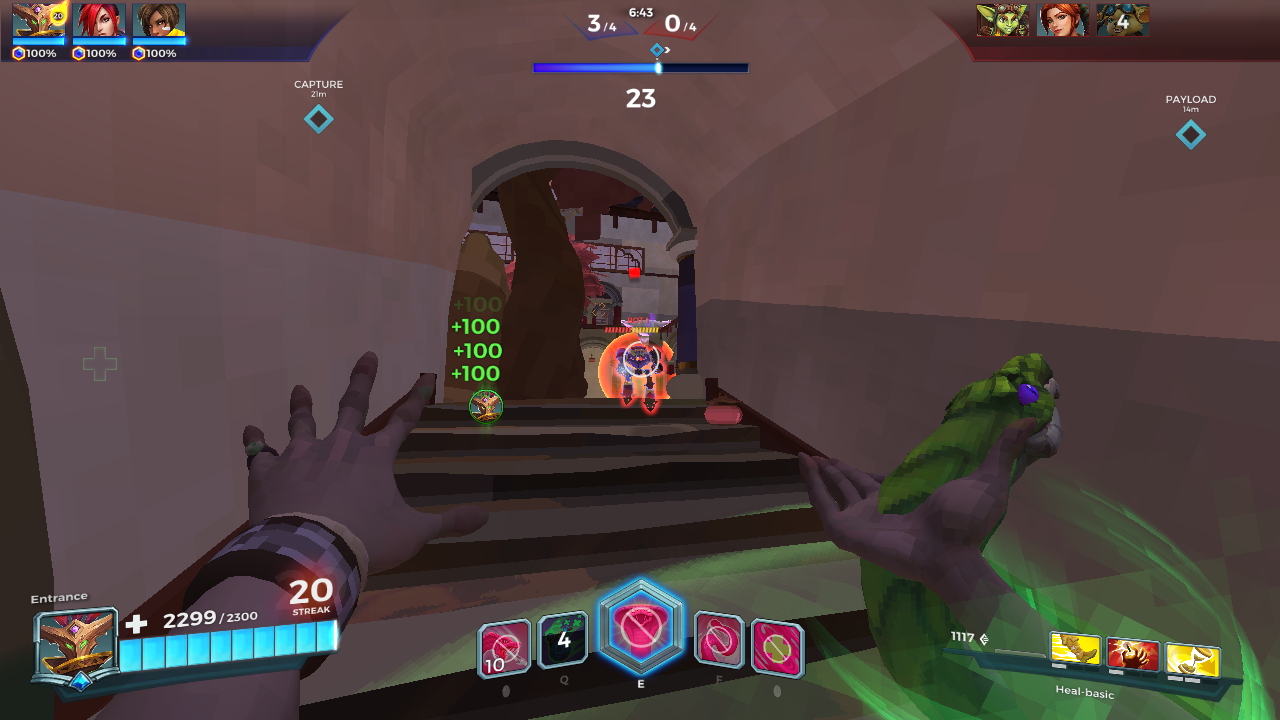model: (605, 334, 670, 419)
